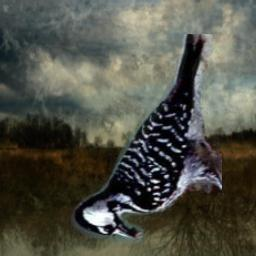Woodpecker: (71, 34, 222, 243)
